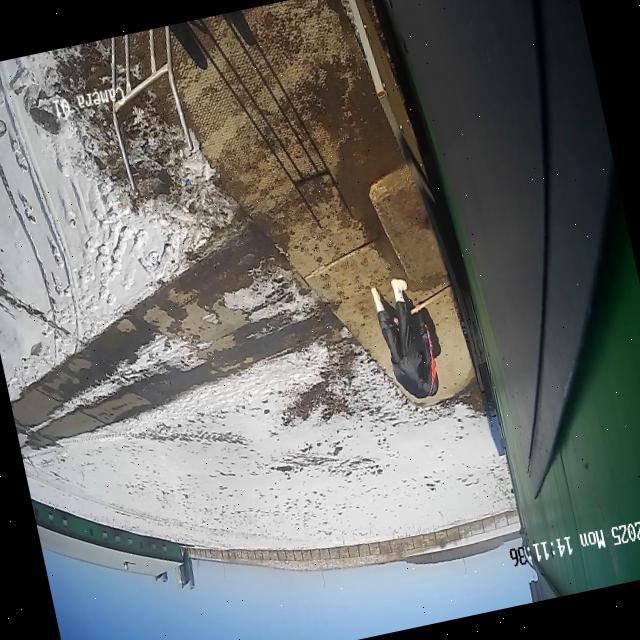Red uniform: (368, 269, 450, 408)
